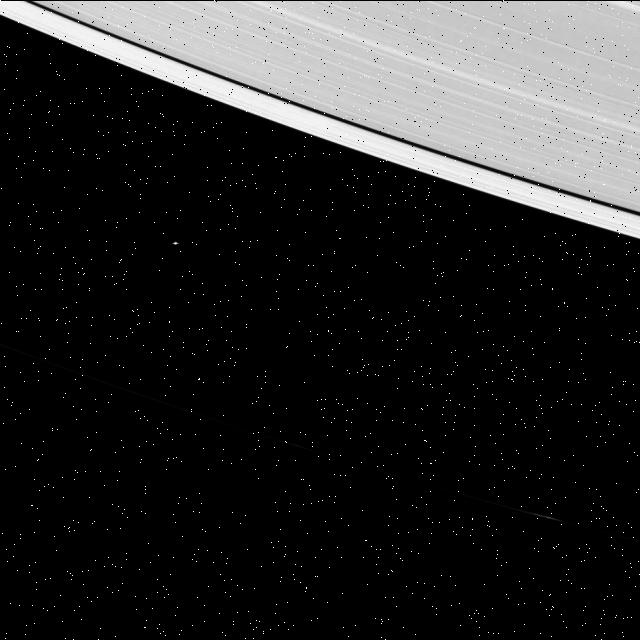Saturn: (0, 1, 640, 244)
